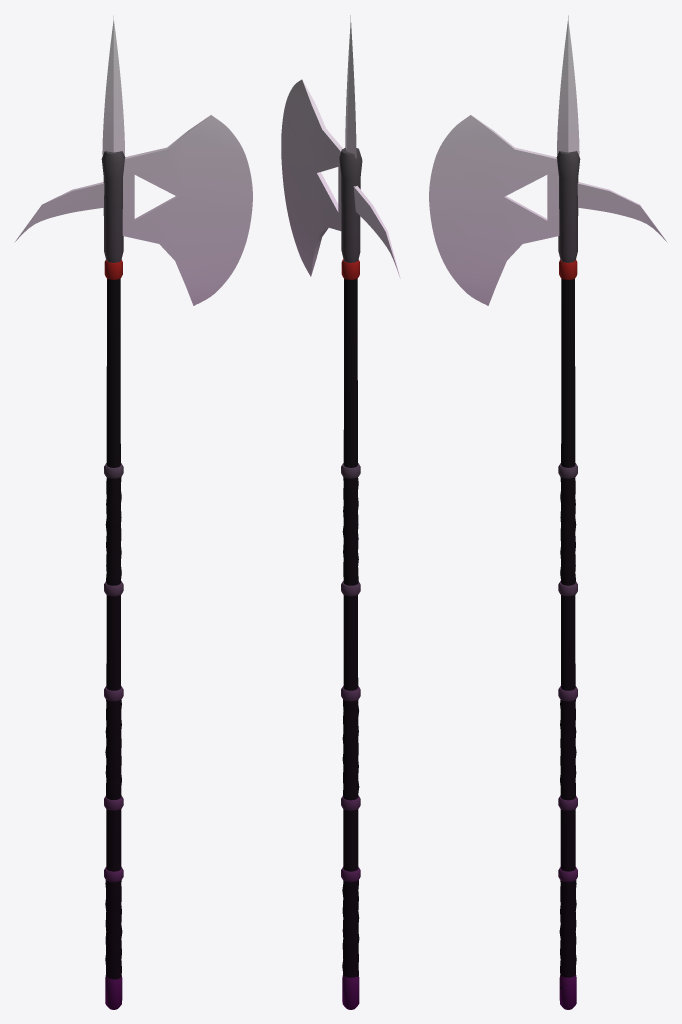
Rendered from halberd.glb.
The picture shows the model from 3 angles, left to right: view 1: azimuth 90°, elevation 25°; view 2: azimuth 210°, elevation 25°; view 3: azimuth 270°, elevation 25°; orthographic projection.
Parts seen in each view (by area): view 1: Kurogane_Halberd; view 2: Kurogane_Halberd; view 3: Kurogane_Halberd.
Part boxes in pixels (bbox=[...]): Kurogane_Halberd: bbox=[14, 15, 252, 1009]; Kurogane_Halberd: bbox=[281, 15, 400, 1009]; Kurogane_Halberd: bbox=[429, 15, 667, 1009].
Bounding box in the file's own units: 0.052 × 2.37 × 0.515.
